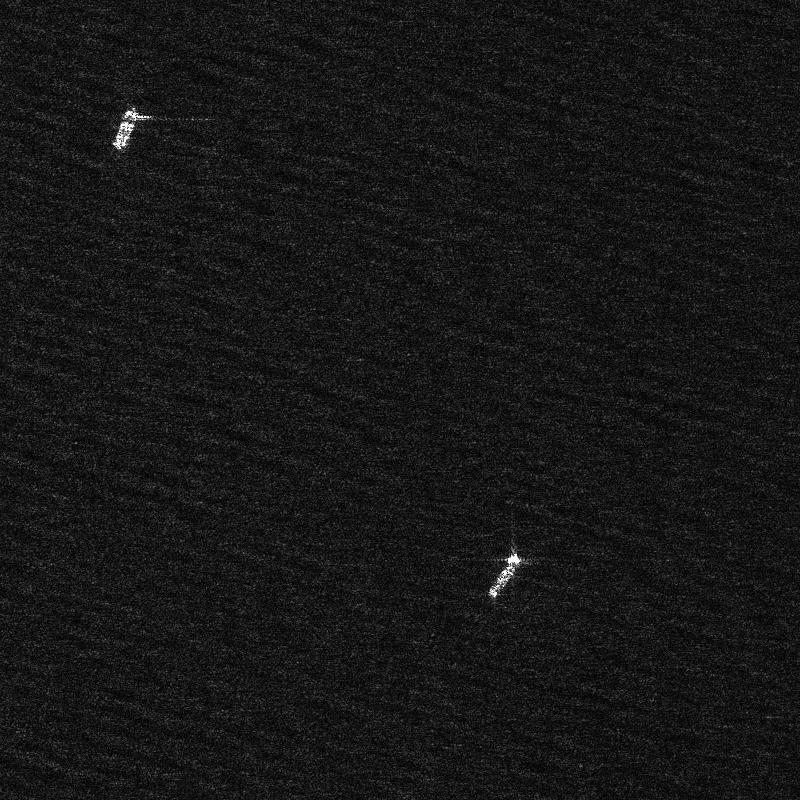ship: (488, 553, 520, 598), (112, 107, 138, 150)
